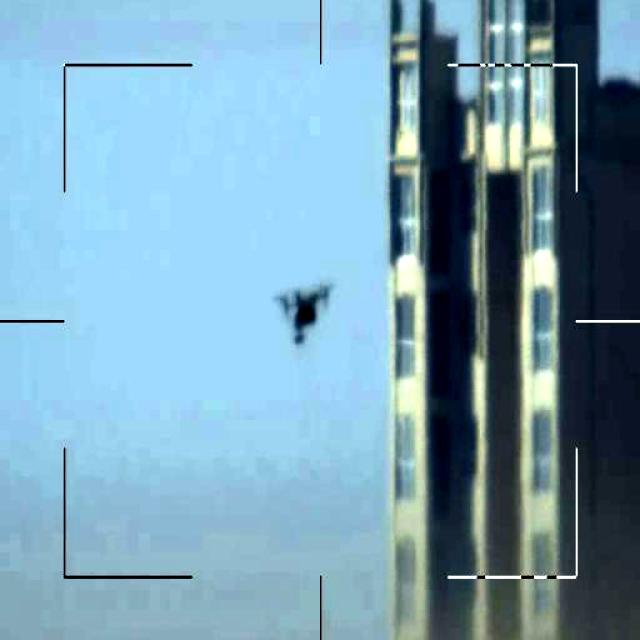bird: (270, 274, 336, 350)
